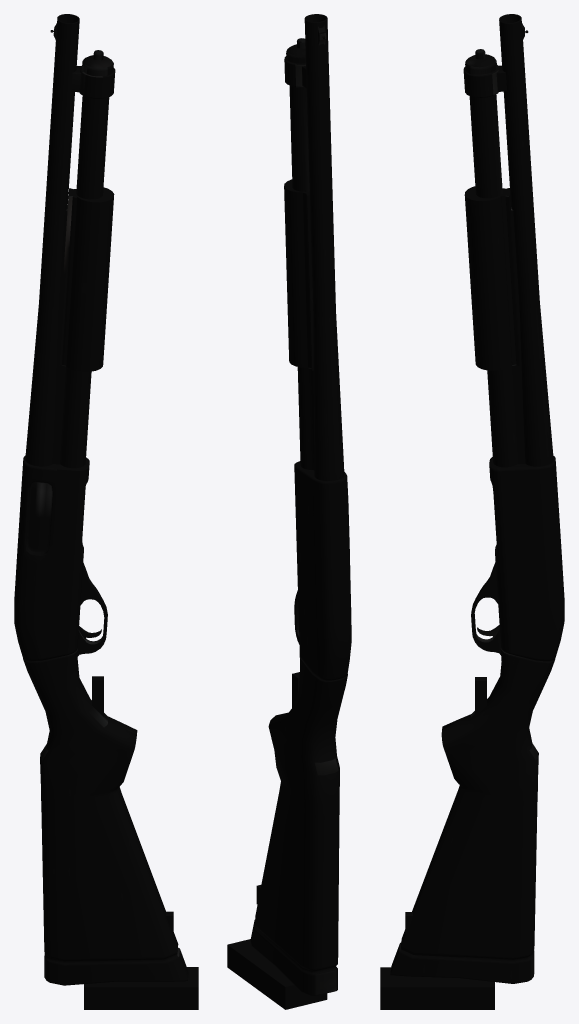
Rendered from Rem870__Mount_ScopeBase__RecoilPad_Rubber__Stock_870_Folding.fbx.
3 renders of one model, left to right at view 1: azimuth 90°, elevation 25°; view 2: azimuth 210°, elevation 25°; view 3: azimuth 270°, elevation 25°, orthographic.
Visible parts, largest first — view 1: asset_Rem870.001; view 2: asset_Rem870.001; view 3: asset_Rem870.001.
Part boxes in pixels (<box>): asset_Rem870.001: <box>14,14,198,1009</box>; asset_Rem870.001: <box>227,14,351,1009</box>; asset_Rem870.001: <box>380,14,564,1009</box>.
Size of the model in its own units: 0.029 by 0.651 by 0.1108.
